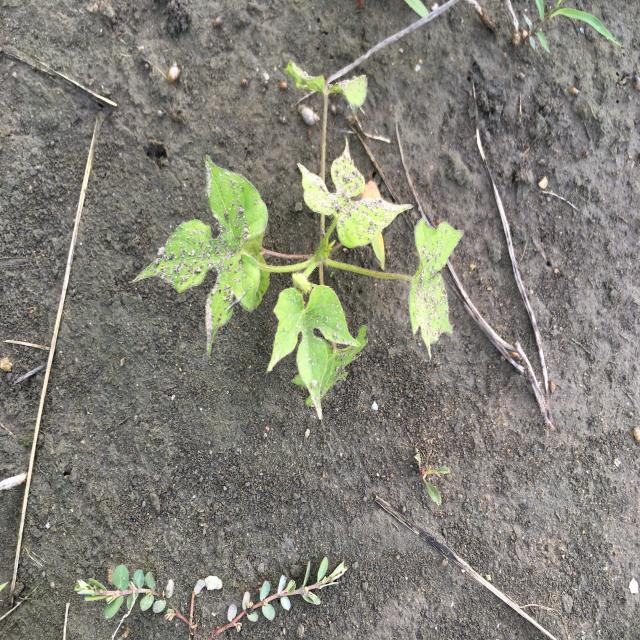MorningGlory: (129, 59, 467, 424)
SpottedSpurge: (70, 555, 349, 631)
